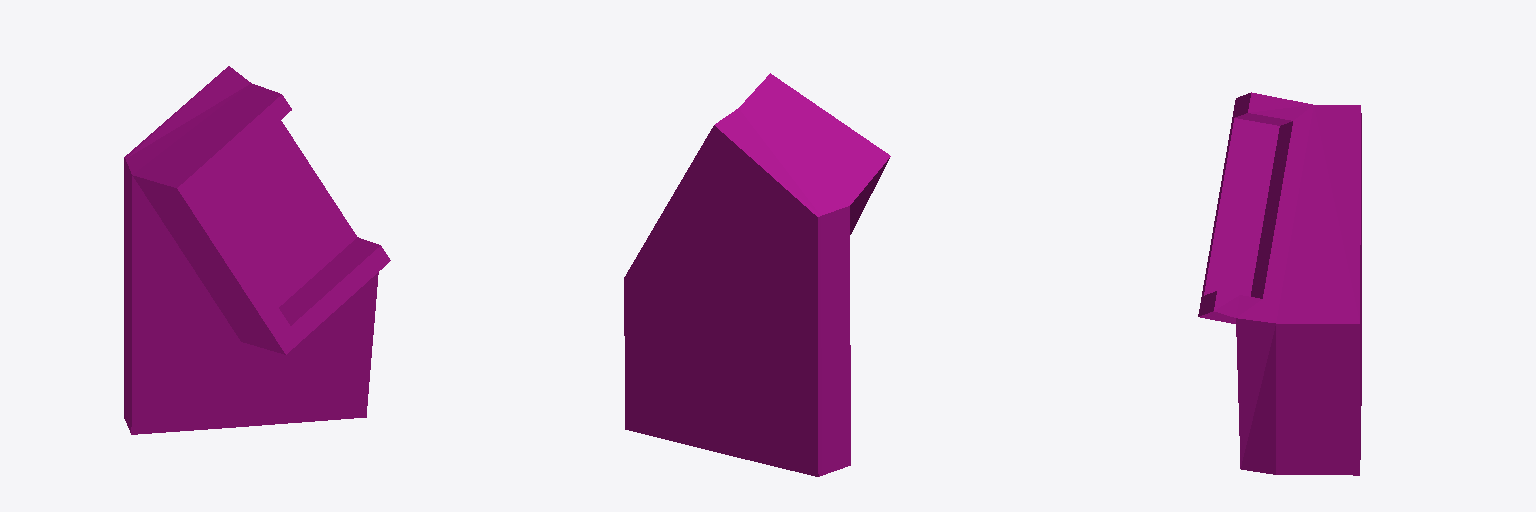
The model's file is IRMountALeft.obj.
The picture shows the model from 3 angles: view 1: azimuth 30°, elevation 25°; view 2: azimuth 150°, elevation 25°; view 3: azimuth 270°, elevation 25°; orthographic projection.
Visible parts, largest first — view 1: Box013; view 2: Box013; view 3: Box013.
Part boxes in pixels (x1,y1,x2,y2): Box013: (124,66,390,434); Box013: (624,73,890,476); Box013: (1198,92,1361,475).
Size of the model in its own units: 12.18 by 19.02 by 8.34.